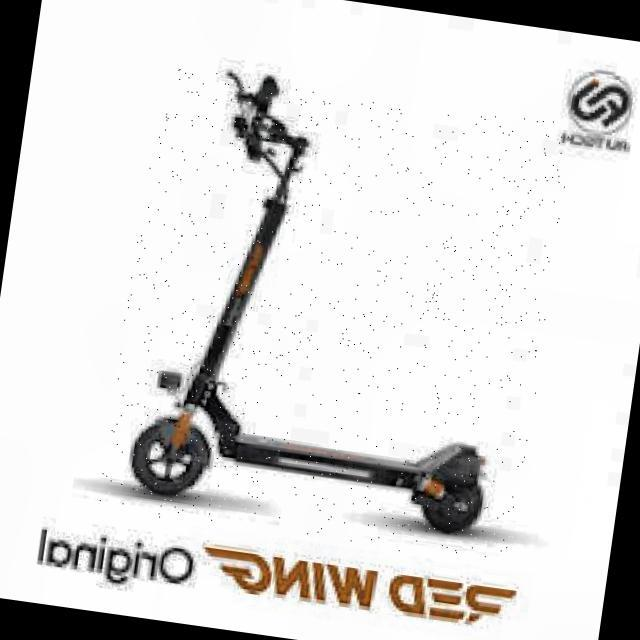bike: (131, 78, 486, 533)
